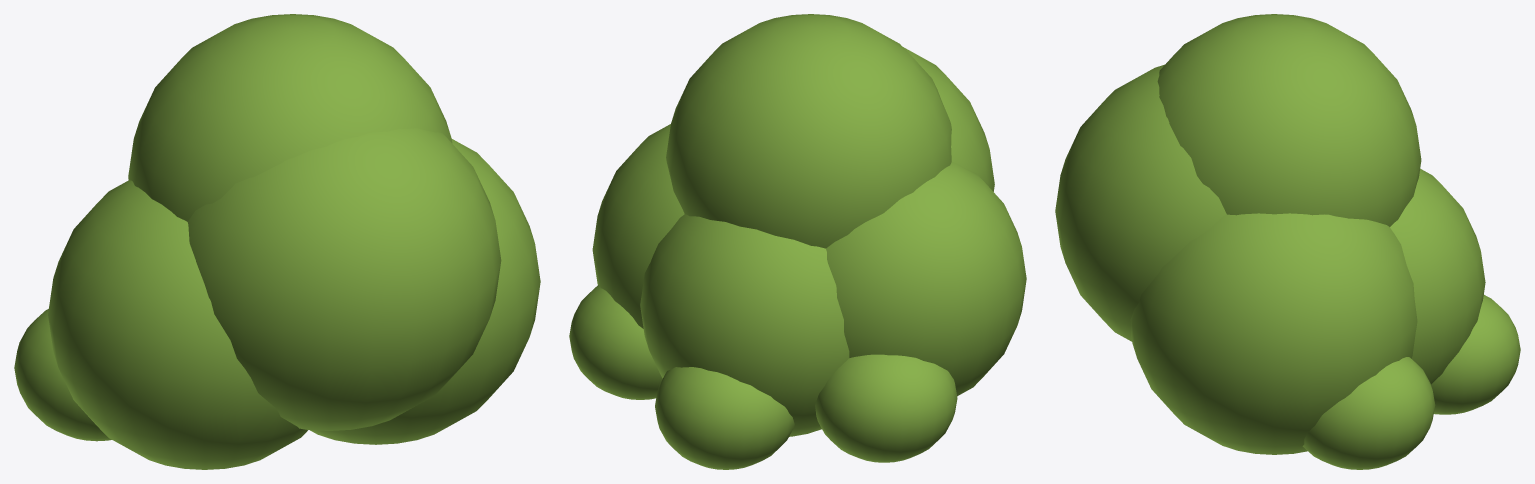
Rendered from berry_cooldown.fbx.
The picture shows the model from 3 angles, left to right: view 1: azimuth 30°, elevation 25°; view 2: azimuth 150°, elevation 25°; view 3: azimuth 270°, elevation 25°; orthographic projection. The views are drawn at different scales.
Parts seen in each view (by area): view 1: berry_cooldown; view 2: berry_cooldown; view 3: berry_cooldown.
Part boxes in pixels (box(x1,y1,x2,y2)): berry_cooldown: box(14, 14, 540, 469); berry_cooldown: box(569, 14, 1026, 469); berry_cooldown: box(1055, 14, 1520, 469).
Bounding box in the file's own units: 1 × 0.9 × 1.
Materials: 1 (1 with a texture image).
